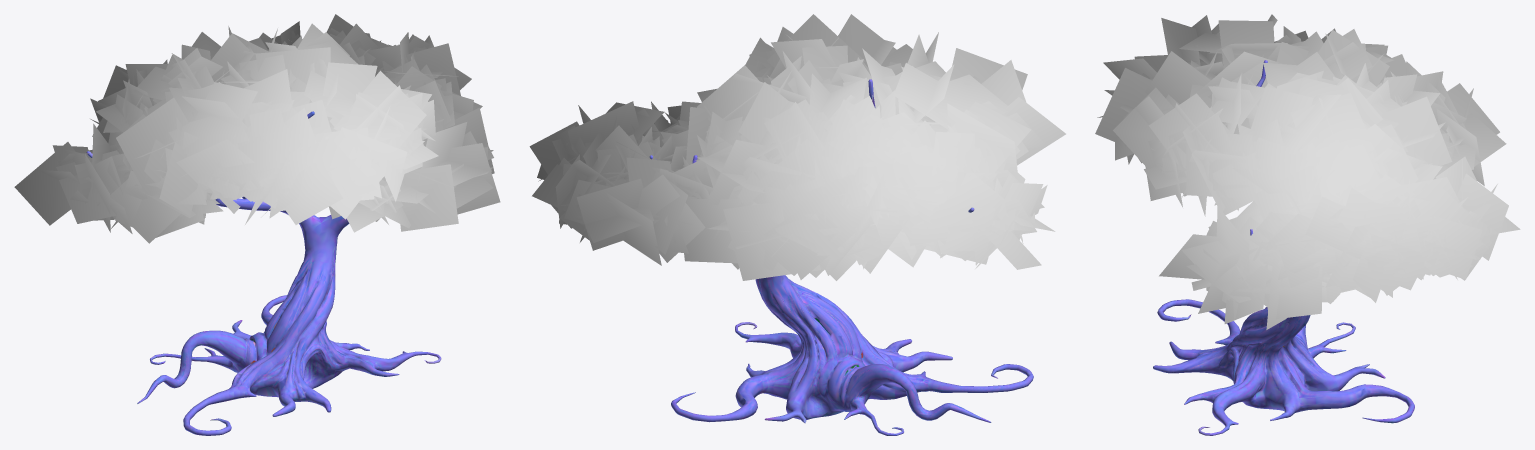
The model's file is m_TreeBig_LOD0.fbx.
3 renders of one model, left to right at view 1: azimuth 30°, elevation 25°; view 2: azimuth 150°, elevation 25°; view 3: azimuth 270°, elevation 25°, orthographic. The views are drawn at different scales.
Visible parts, largest first — view 1: TreeBig_LOD0; view 2: TreeBig_LOD0; view 3: TreeBig_LOD0.
Part boxes in pixels (x1=…): TreeBig_LOD0: x1=14, y1=14, x2=500, y2=435; TreeBig_LOD0: x1=529, y1=14, x2=1065, y2=435; TreeBig_LOD0: x1=1095, y1=14, x2=1520, y2=435.
Bounding box in the file's own units: 12004 × 8510 × 9657.
